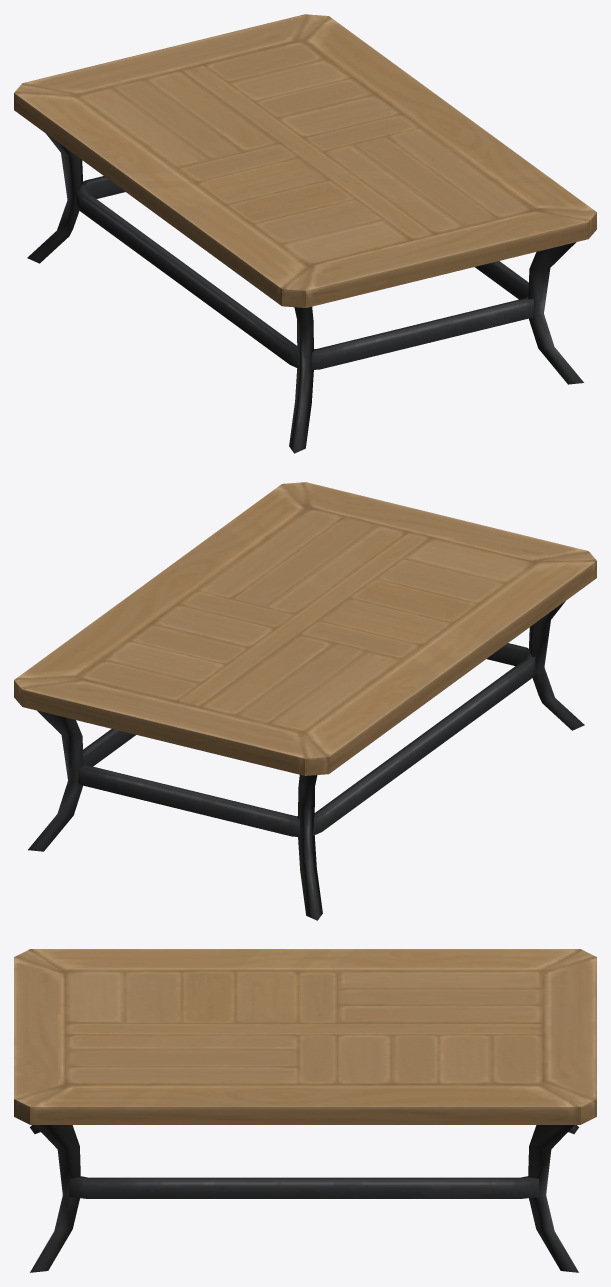
Rendered from hbxz_wj017_01.FBX.
3 renders of one model, top to bottom at view 1: azimuth 30°, elevation 25°; view 2: azimuth 150°, elevation 25°; view 3: azimuth 270°, elevation 25°, orthographic. The views are drawn at different scales.
Visible parts, largest first — view 1: hbxz_wj017_01; view 2: hbxz_wj017_01; view 3: hbxz_wj017_01.
Part boxes in pixels (left/top/right/bottom): hbxz_wj017_01: left=14, top=14, right=596, bottom=453; hbxz_wj017_01: left=14, top=482, right=596, bottom=920; hbxz_wj017_01: left=14, top=949, right=596, bottom=1272.
Size of the model in its own units: 112 by 57.16 by 175.
1 material, 1 textured.
